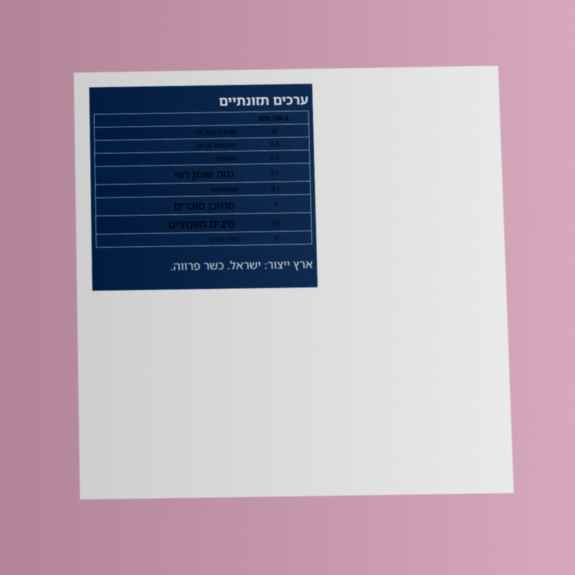carbs: (270, 182, 281, 194)
energy: (269, 125, 279, 137)
fat: (269, 151, 280, 163)
protein: (269, 138, 280, 150)
